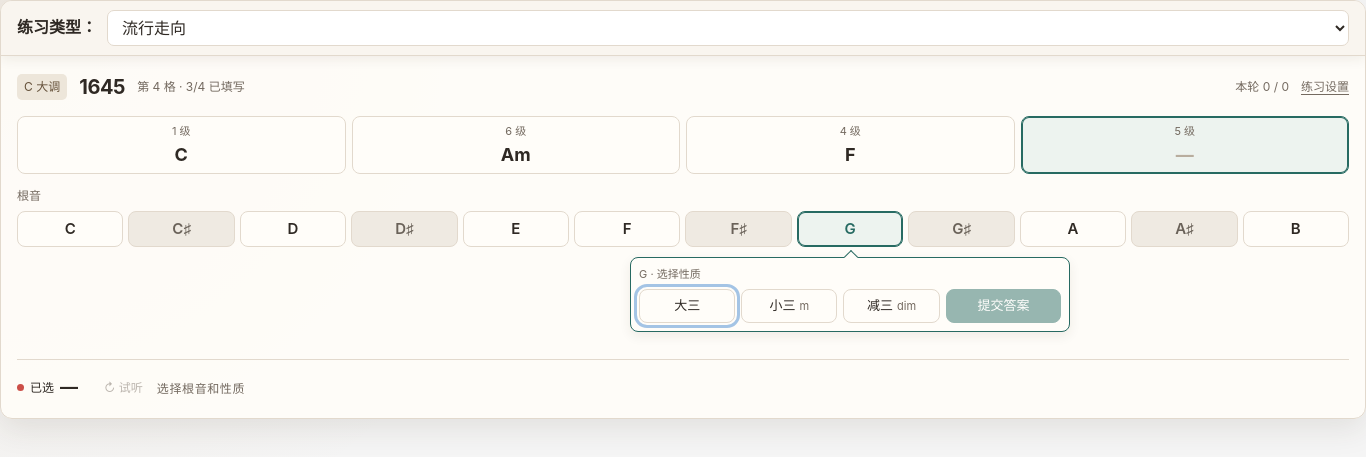
Test: GuitarAudioProvider › preserves the preview chord through submission and automatic advancement in 流行走向
Earlier steps of the test are not shown.
Click the button "大三".
click(687, 306)  # box [639,289,735,323]
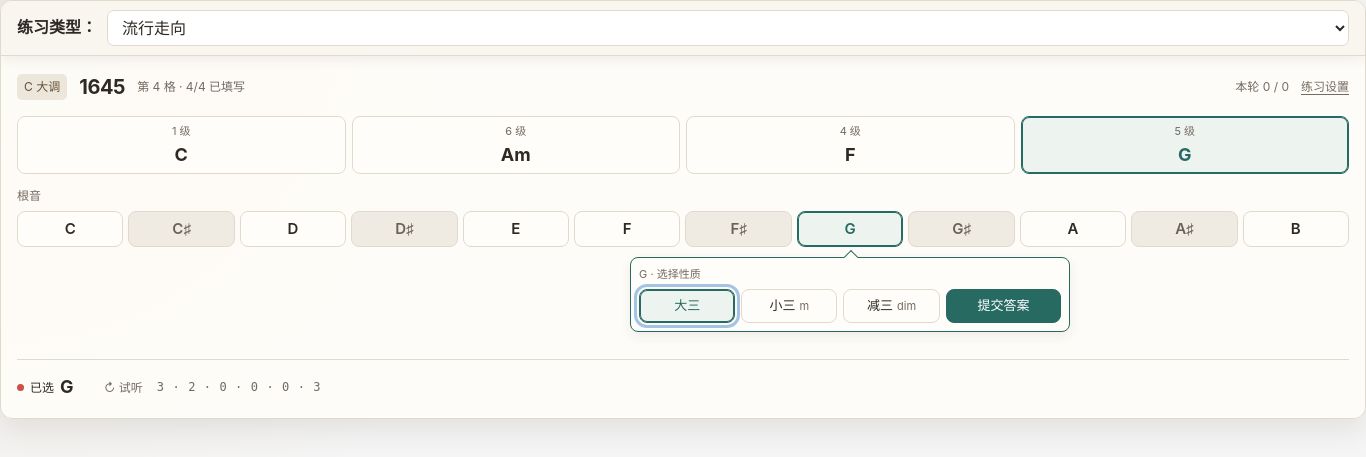
Click the button "提交答案".
click(1003, 306)  # box [946,289,1061,323]
Wait 500 ms
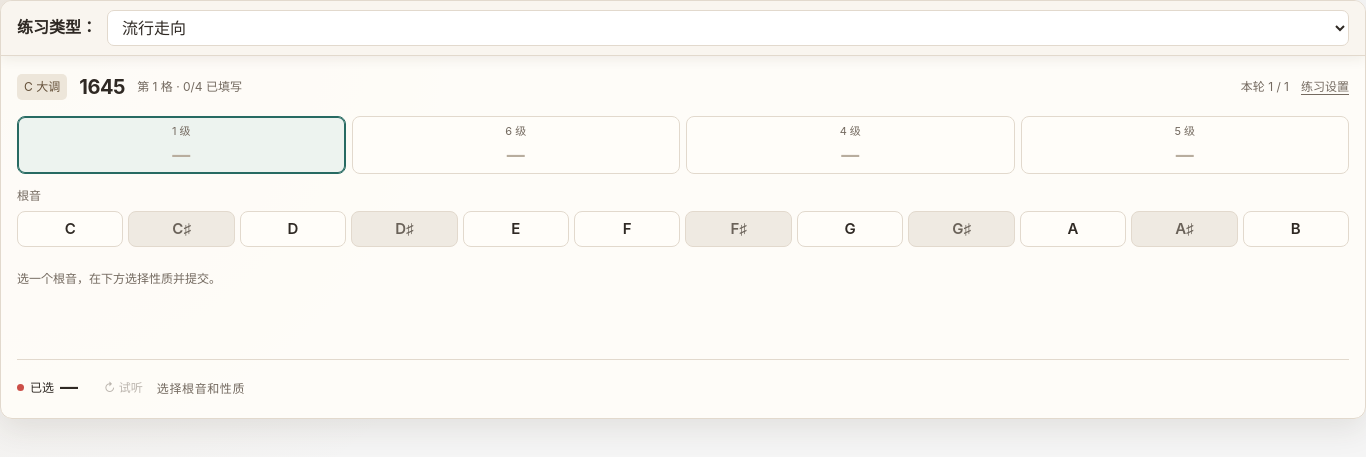
Result: the button "提交答案" is gone
